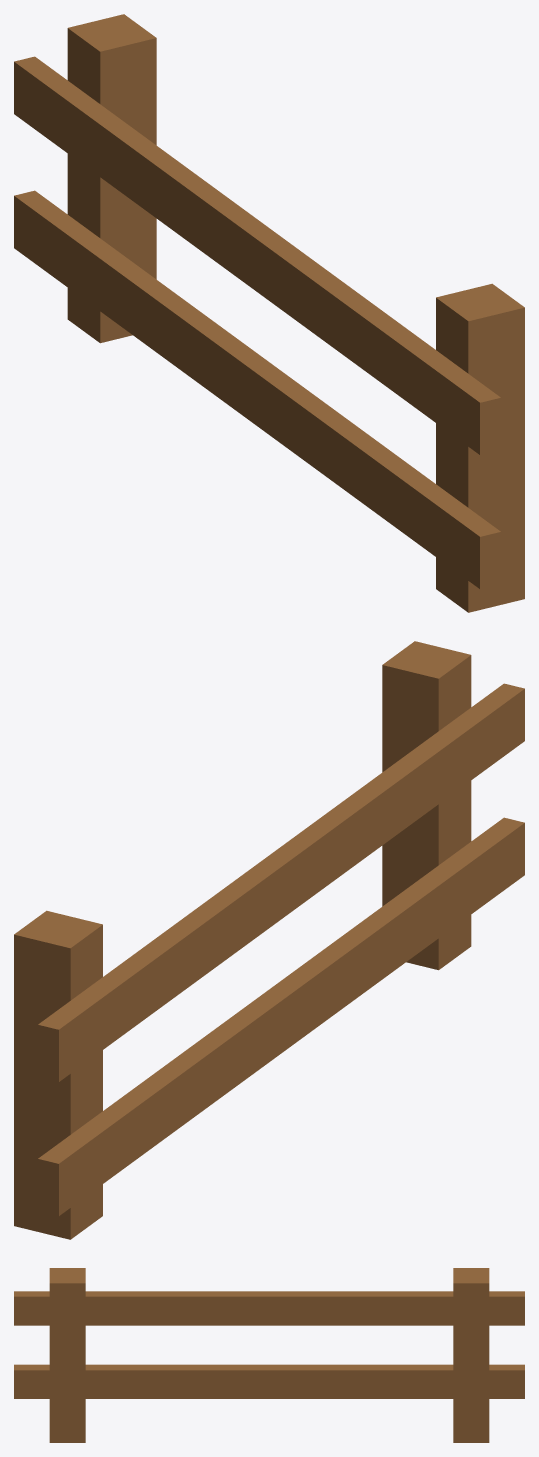
Rendered from sn_fence_planks.glb.
3 renders of one model, top to bottom at view 1: azimuth 30°, elevation 25°; view 2: azimuth 150°, elevation 25°; view 3: azimuth 270°, elevation 25°, orthographic. The views are drawn at different scales.
Parts seen in each view (by area): view 1: sn_fence_planks; view 2: sn_fence_planks; view 3: sn_fence_planks.
Boxes of the visible parts, x1,y1,x2,y2 form: sn_fence_planks: (14,14,524,612); sn_fence_planks: (14,641,524,1239); sn_fence_planks: (14,1268,524,1442).
Bounding box in the file's own units: 0.2399 × 0.8625 × 2.5.
